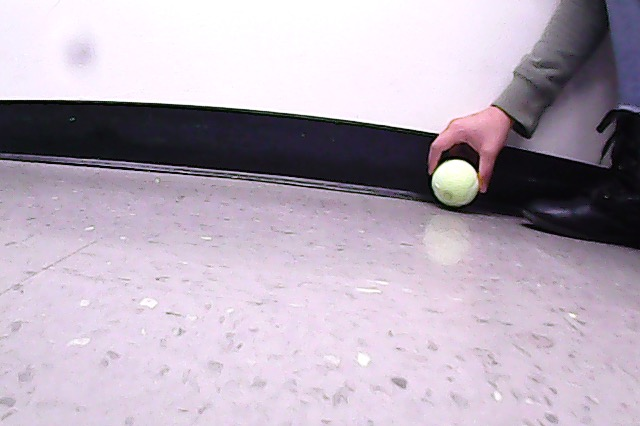ball: (432, 160, 479, 208)
